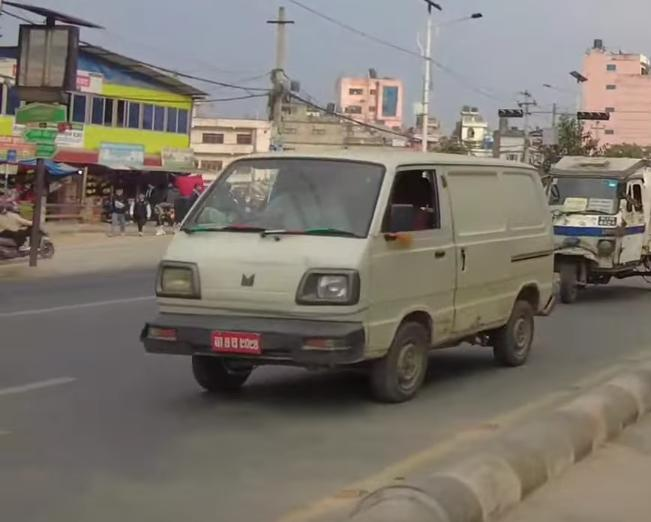tempo: (541, 153, 651, 303)
van: (127, 141, 566, 396)
